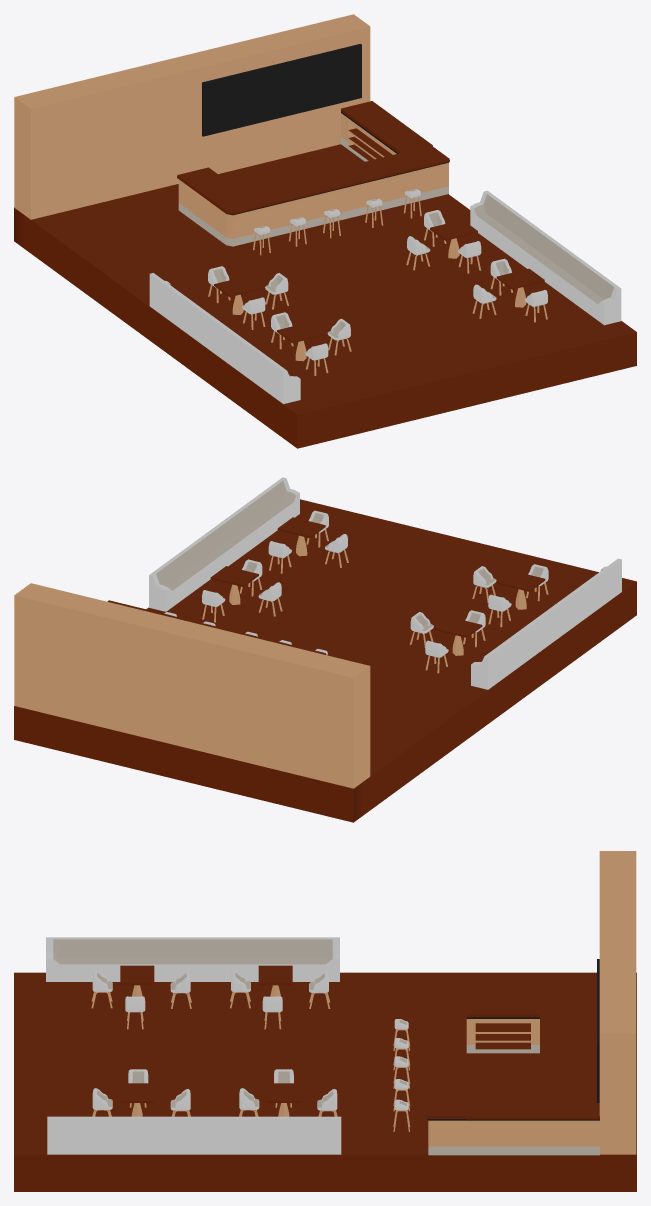
Rendered from BarCombined.fbx.
3 renders of one model, top to bottom at view 1: azimuth 30°, elevation 25°; view 2: azimuth 150°, elevation 25°; view 3: azimuth 270°, elevation 25°, orthographic. The views are drawn at different scales.
Visible parts, largest first — view 1: pCube49; view 2: pCube49; view 3: pCube49.
Part boxes in pixels (x1,y1,x2,y2): pCube49: (14, 14, 636, 448); pCube49: (14, 477, 636, 822); pCube49: (14, 851, 636, 1191).
Bounding box in the file's own units: 1222 × 493 × 1756.
